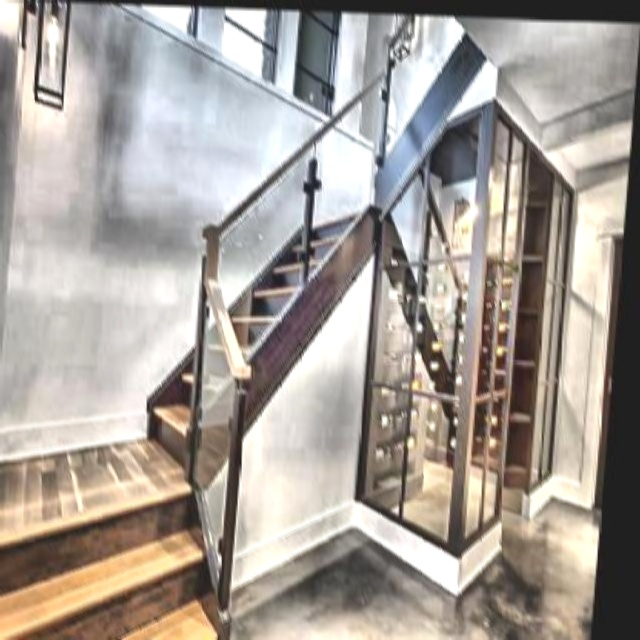stair: (108, 194, 372, 461), (0, 471, 243, 637)
